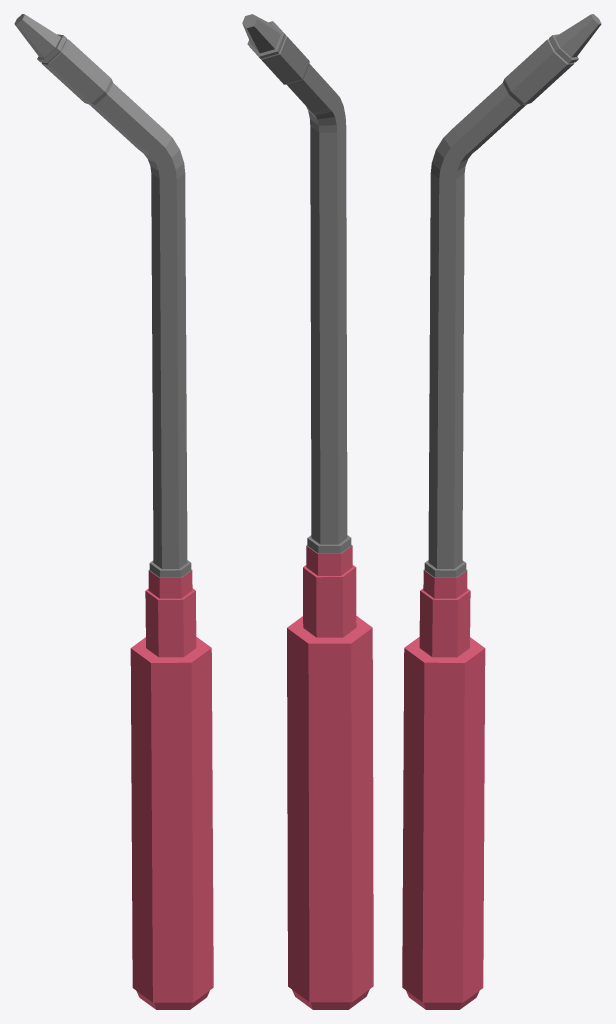
Rendered from WeldingTool.fbx.
3 views of the same model, side by side, from view 1: azimuth 90°, elevation 25°; view 2: azimuth 150°, elevation 25°; view 3: azimuth 270°, elevation 25° (orthographic). The views are drawn at different scales.
Visible parts, largest first — view 1: WeldingTool; view 2: WeldingTool; view 3: WeldingTool.
Boxes of the visible parts, bbox=[...] form: WeldingTool: bbox=[14, 14, 213, 1009]; WeldingTool: bbox=[242, 14, 373, 1009]; WeldingTool: bbox=[402, 14, 601, 1009].
Size of the model in its own units: 136 by 2097 by 385.
